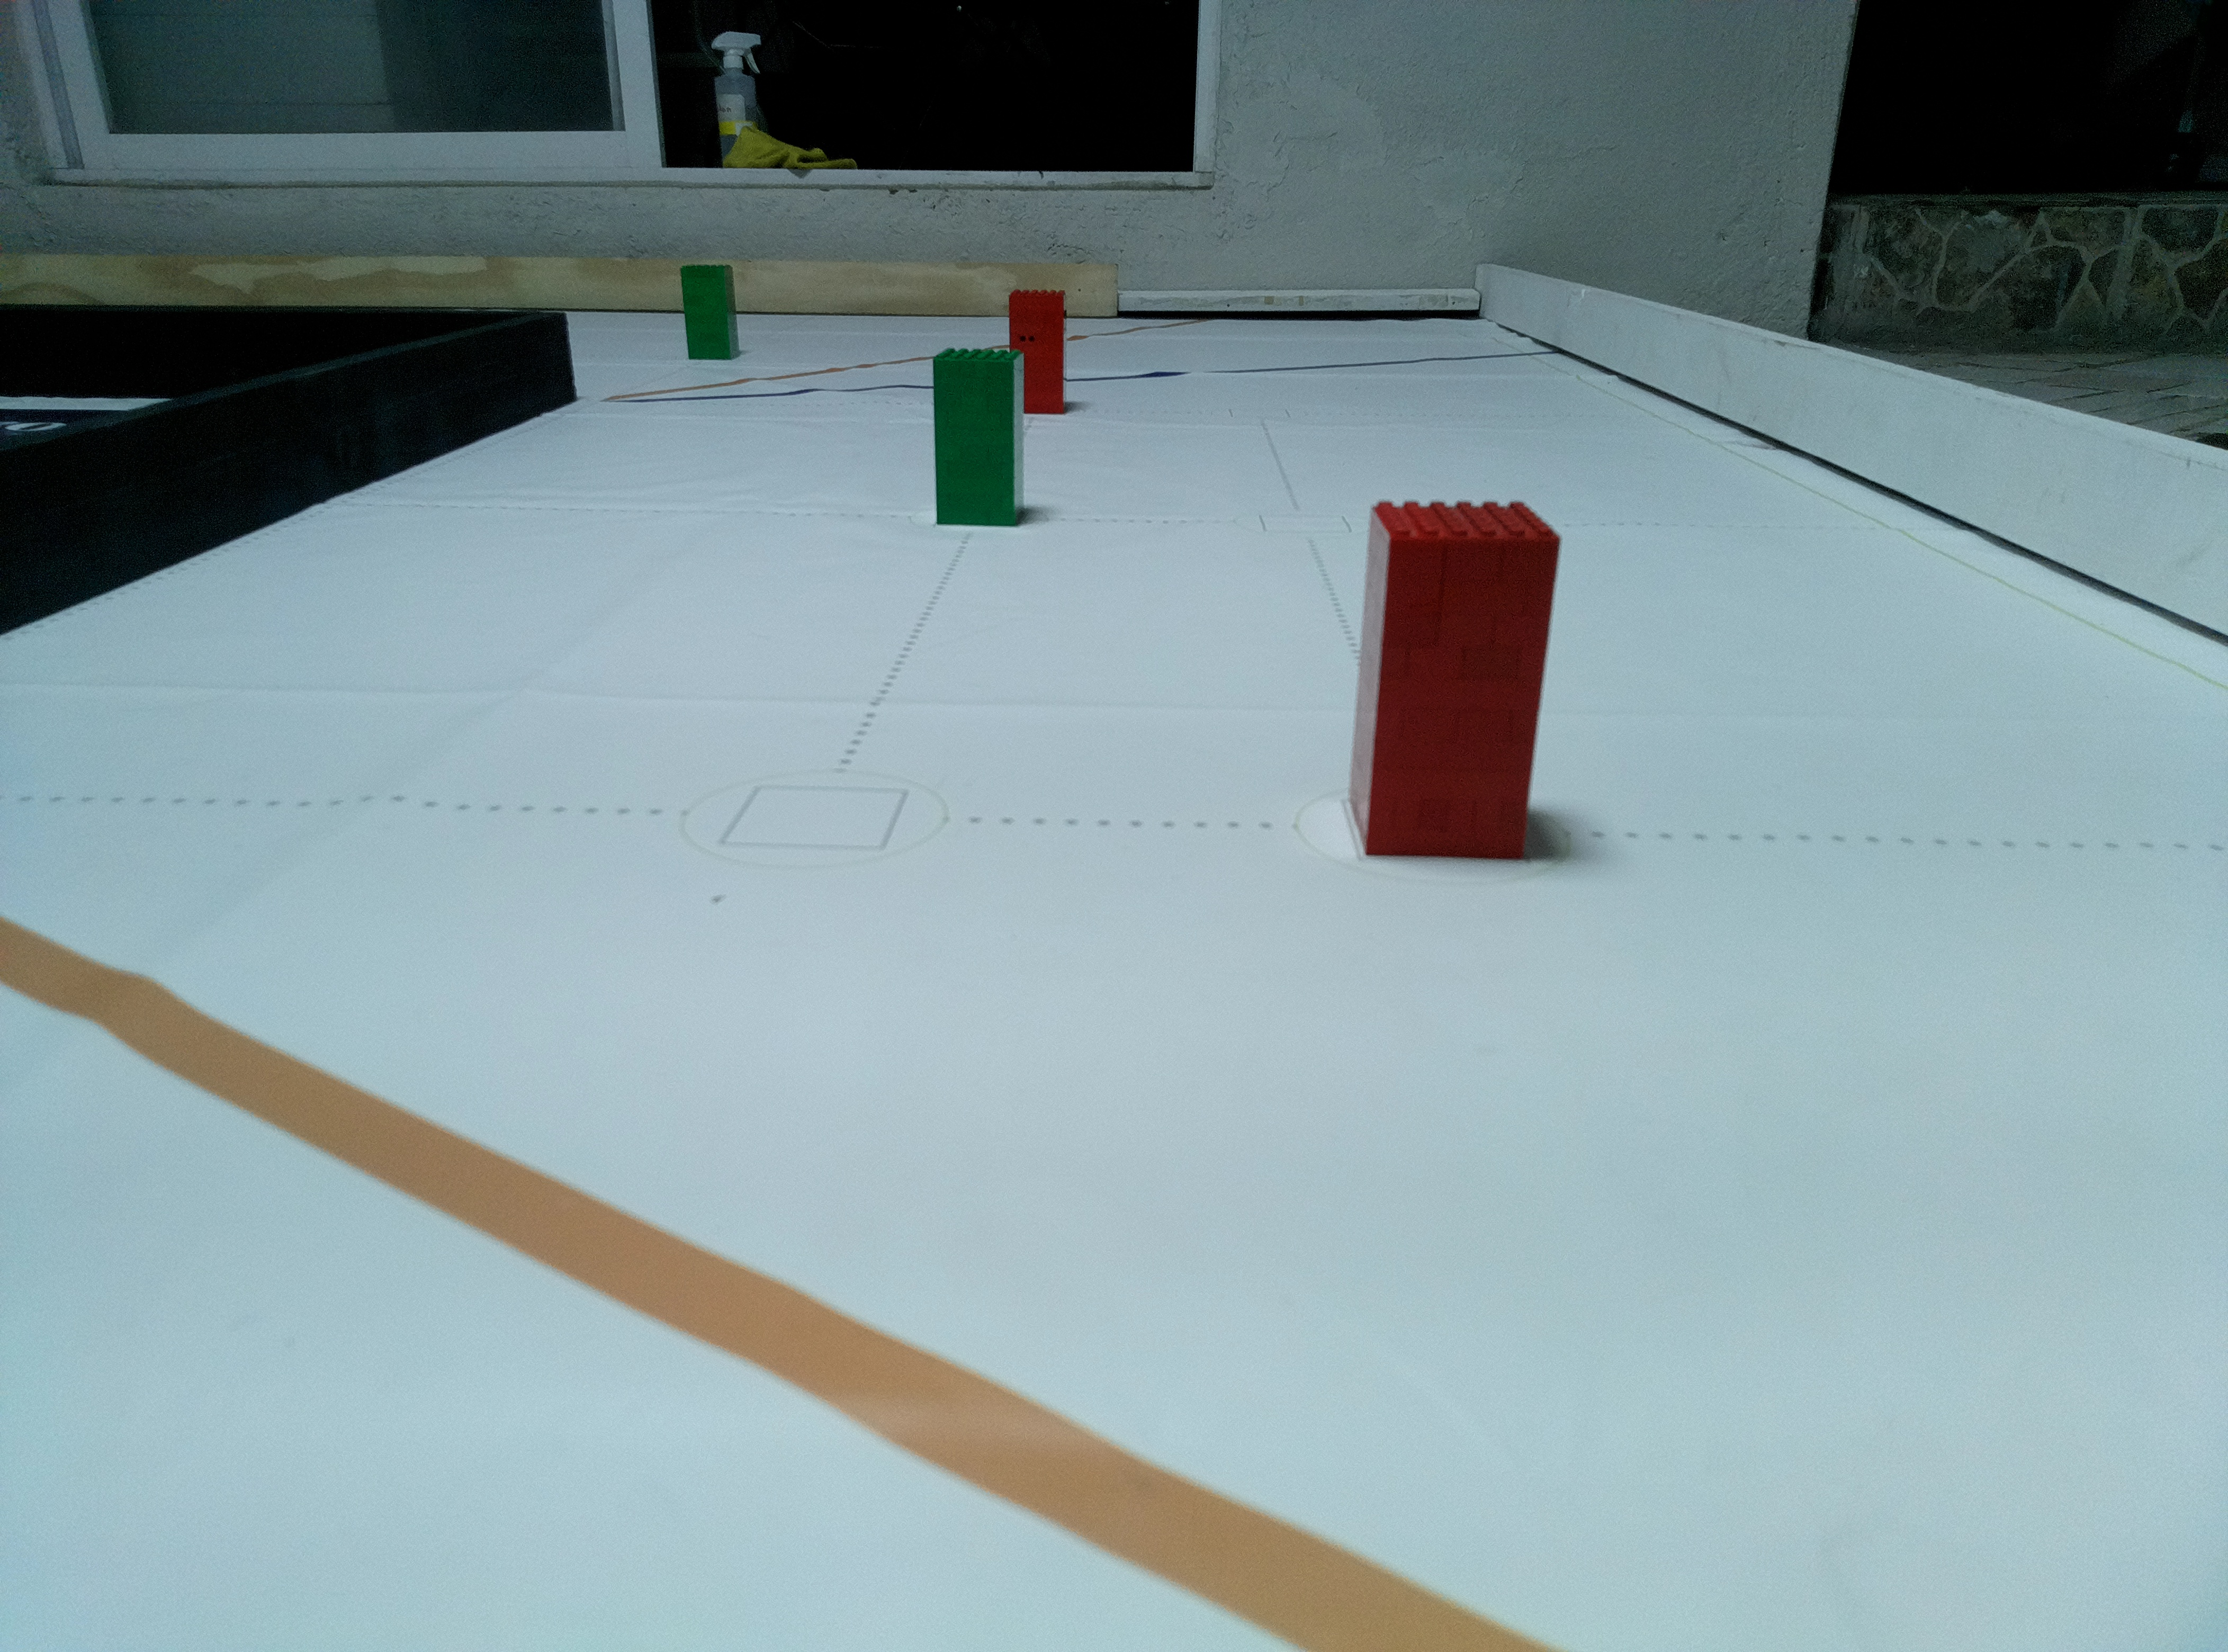greenbox: (925, 349, 1024, 528), (678, 269, 736, 364)
redbox: (1341, 500, 1560, 861), (1001, 290, 1067, 406)
